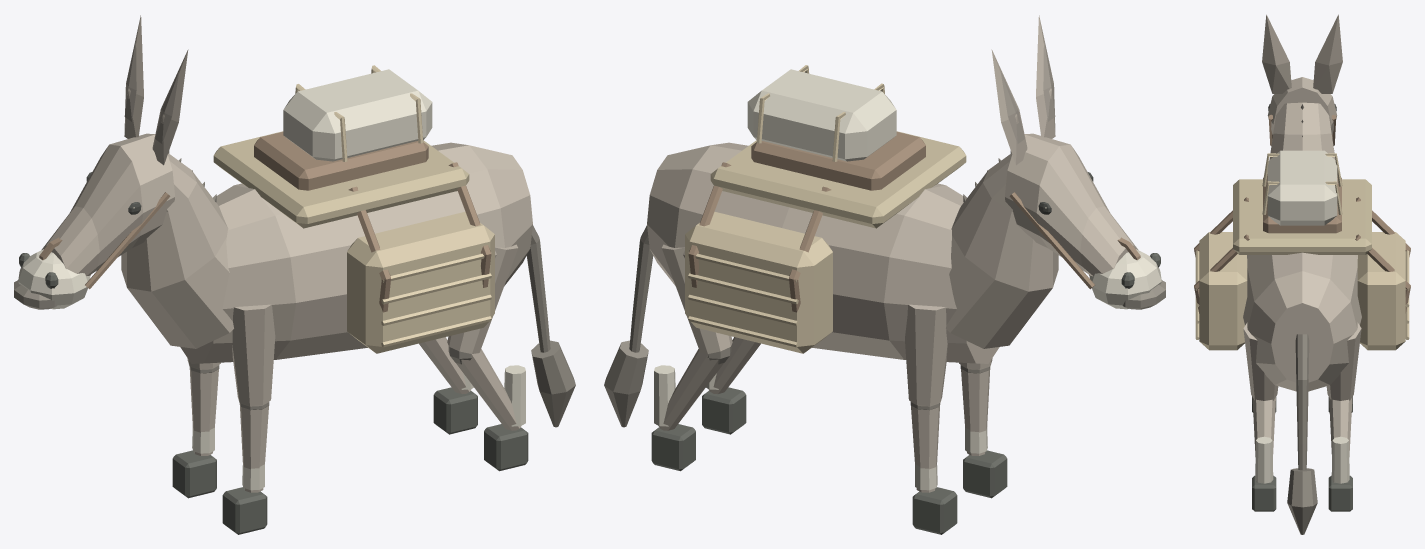
The model's file is mule.glb.
3 renders of one model, left to right at view 1: azimuth 30°, elevation 25°; view 2: azimuth 150°, elevation 25°; view 3: azimuth 270°, elevation 25°, orthographic. The views are drawn at different scales.
Visible parts, largest first — view 1: Equine_Barrel, Pannier_-1, Upright_Neck, Long_Equine_Head, Bundle, Saddle_Blanket, Pack_Saddle, foreL_Upper, Pale_Muzzle, Tail_Brush, hindL_Shin, foreL_Hoof (+16 smaller); view 2: Equine_Barrel, Pannier_1, Upright_Neck, Long_Equine_Head, Bundle, Saddle_Blanket, Pack_Saddle, foreR_Upper, Pale_Muzzle, Tail_Brush, hindR_Shin, foreR_Hoof (+16 smaller); view 3: Equine_Barrel, Saddle_Blanket, Pannier_-1, Pannier_1, Bundle, Upright_Neck, Fine_Tail, Tail_Brush, ear1_Outer, ear-1_Outer, Long_Equine_Head, hindR_Upper (+14 smaller).
Part boxes in pixels (bbox=[...]): Equine_Barrel: bbox=[180, 142, 532, 363]; Pannier_-1: bbox=[347, 212, 494, 353]; Upright_Neck: bbox=[121, 153, 233, 348]; Long_Equine_Head: bbox=[41, 133, 174, 275]; Bundle: bbox=[283, 69, 432, 161]; Saddle_Blanket: bbox=[213, 131, 469, 228]; Pack_Saddle: bbox=[254, 132, 428, 190]; foreL_Upper: bbox=[232, 304, 275, 405]; Pale_Muzzle: bbox=[18, 249, 90, 309]; Tail_Brush: bbox=[531, 340, 575, 427]; hindL_Shin: bbox=[456, 349, 521, 430]; foreL_Hoof: bbox=[222, 487, 267, 534]; Equine_Barrel: bbox=[647, 142, 999, 363]; Pannier_1: bbox=[685, 212, 832, 353]; Upright_Neck: bbox=[946, 153, 1058, 348]; Long_Equine_Head: bbox=[1005, 133, 1138, 276]; Bundle: bbox=[747, 69, 896, 161]; Saddle_Blanket: bbox=[710, 131, 966, 228]; Pack_Saddle: bbox=[751, 132, 925, 190]; foreR_Upper: bbox=[905, 304, 947, 405]; Pale_Muzzle: bbox=[1089, 249, 1161, 309]; Tail_Brush: bbox=[604, 340, 648, 427]; hindR_Shin: bbox=[658, 349, 723, 430]; foreR_Hoof: bbox=[912, 487, 957, 534]; Equine_Barrel: bbox=[1243, 252, 1361, 391]; Saddle_Blanket: bbox=[1233, 179, 1371, 254]; Pannier_-1: bbox=[1199, 232, 1247, 350]; Pannier_1: bbox=[1357, 232, 1405, 350]; Bundle: bbox=[1267, 150, 1337, 225]; Upright_Neck: bbox=[1267, 102, 1335, 173]; Fine_Tail: bbox=[1295, 334, 1309, 470]; Tail_Brush: bbox=[1287, 468, 1317, 534]; ear1_Outer: bbox=[1313, 14, 1342, 93]; ear-1_Outer: bbox=[1262, 14, 1291, 93]; Long_Equine_Head: bbox=[1267, 77, 1337, 134]; hindR_Upper: bbox=[1326, 322, 1361, 400].
Size of the model in its own units: 0.7038 by 0.595 by 0.3118.
